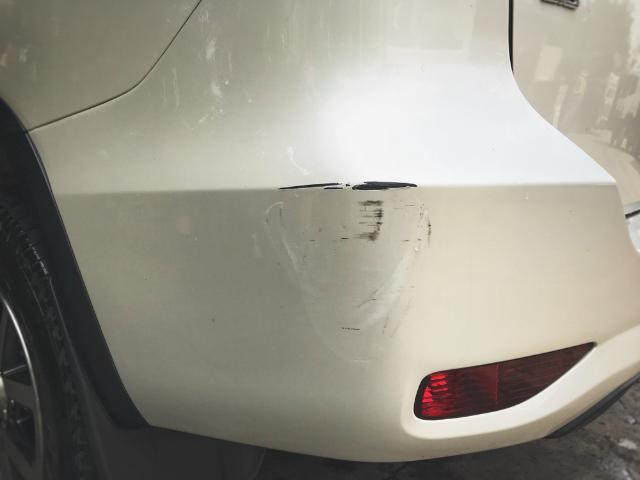scratch: (269, 177, 434, 365)
